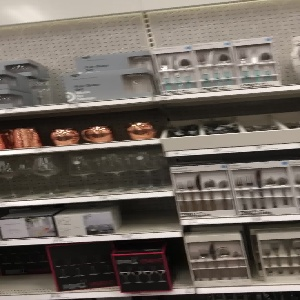void: (124, 196, 178, 233), (1, 247, 43, 293)
